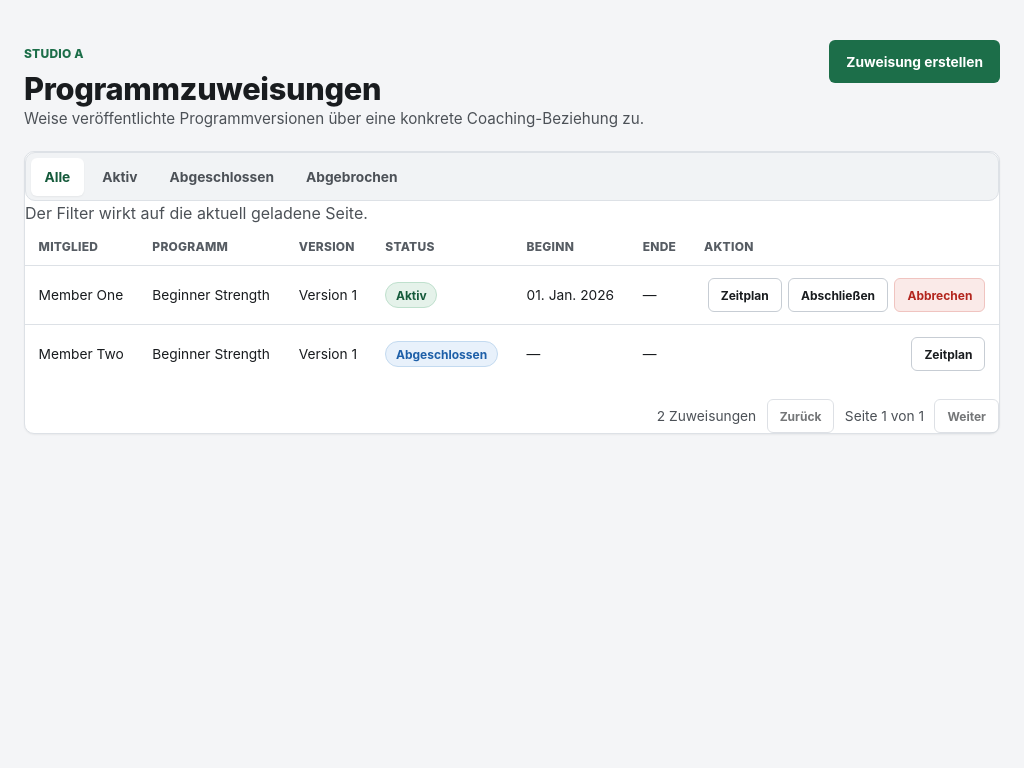
Test: ProgramAssignmentsView › shows a hint instead of a usable relationship when the selected member has none
Step 1. Click the button "Zuweisung erstellen" → [915, 62], box [829,40,1000,83]
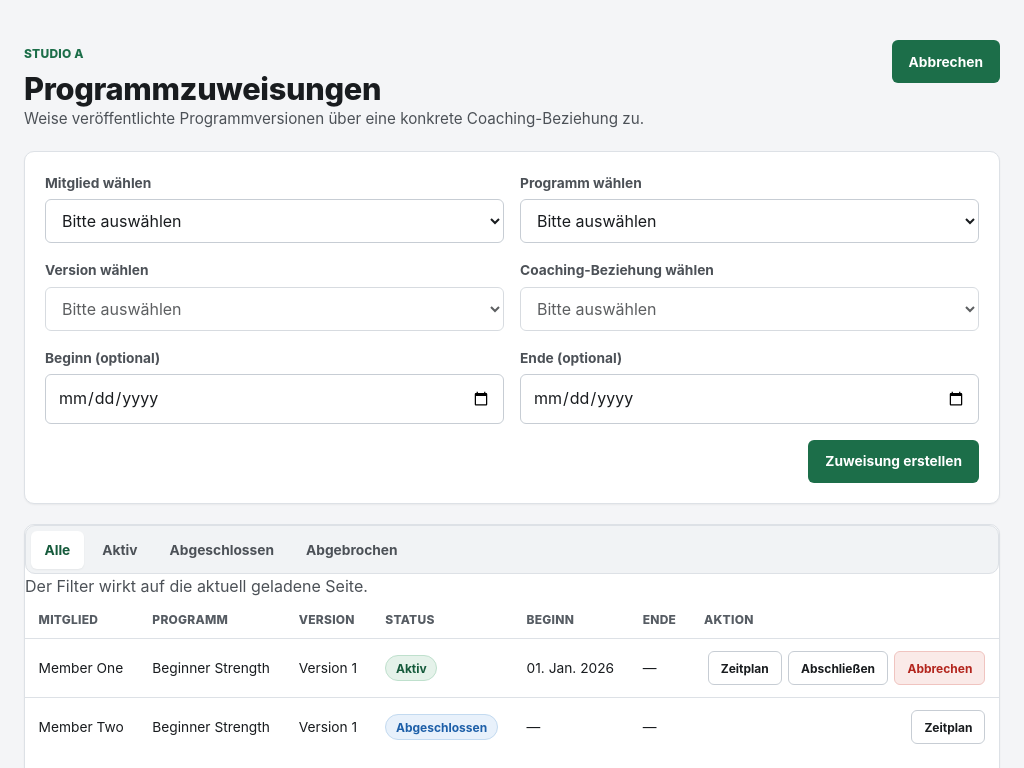
Step 2. Select "Member One" in the dropdown with id "assignment-member" → [274, 221], box [45,199,504,243]
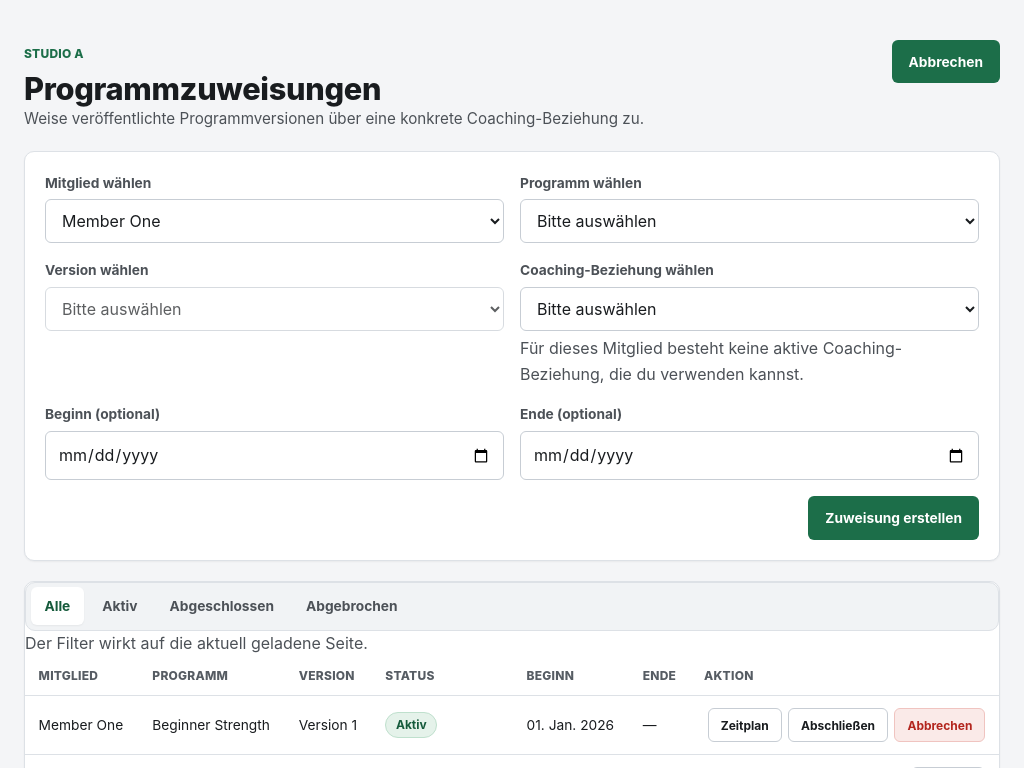
Expected: the text "Für dieses Mitglied besteht keine aktive Coaching-Beziehung, die du verwenden kannst." is shown, [520,338,902,384]
